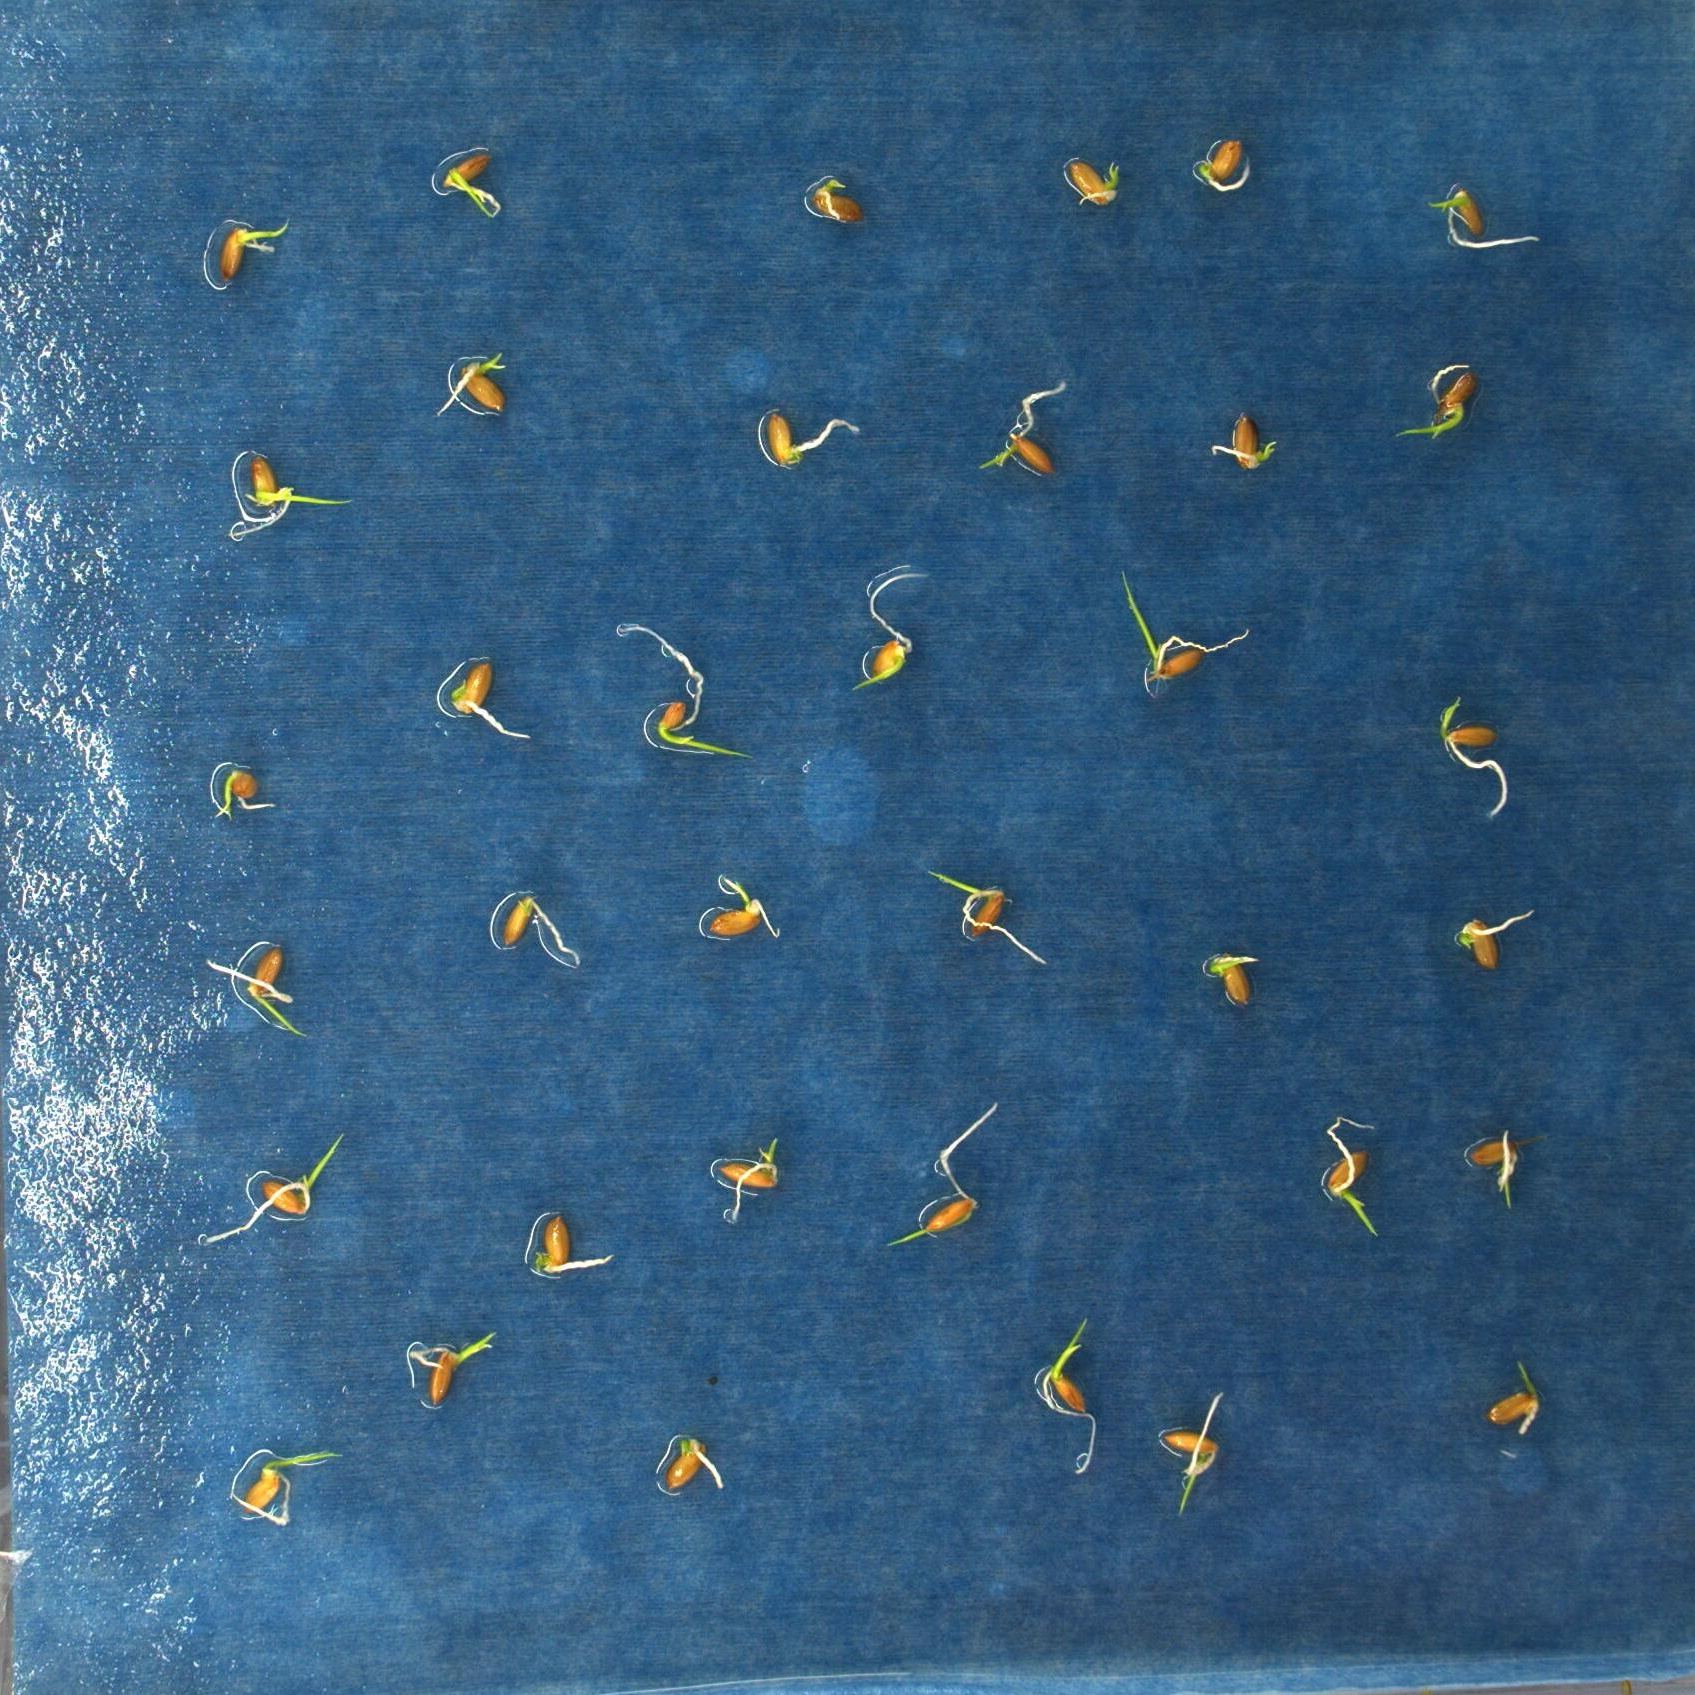not sprout: (449, 660, 532, 740), (504, 894, 581, 967), (767, 411, 858, 467), (532, 1212, 613, 1274), (1458, 910, 1537, 972), (664, 1437, 725, 1492)
sprout: (618, 624, 757, 761), (885, 1102, 998, 1248), (205, 1132, 348, 1245), (1122, 567, 1250, 685), (927, 871, 1048, 964), (227, 455, 352, 539), (205, 944, 309, 1038), (851, 571, 930, 691), (1042, 1316, 1096, 1476), (1159, 1389, 1226, 1516), (978, 383, 1068, 477), (1440, 695, 1509, 818), (231, 1451, 341, 1524), (408, 1329, 498, 1408), (1426, 189, 1541, 248), (1395, 362, 1479, 439), (1326, 1116, 1378, 1237), (717, 1138, 781, 1223), (217, 216, 290, 282), (438, 351, 508, 418), (706, 875, 781, 938), (439, 151, 500, 219), (1467, 1132, 1518, 1211), (1487, 1361, 1540, 1434), (1212, 411, 1276, 470), (214, 771, 276, 821), (1197, 137, 1251, 192), (1206, 953, 1260, 1007), (1066, 158, 1122, 208), (810, 179, 865, 225)
